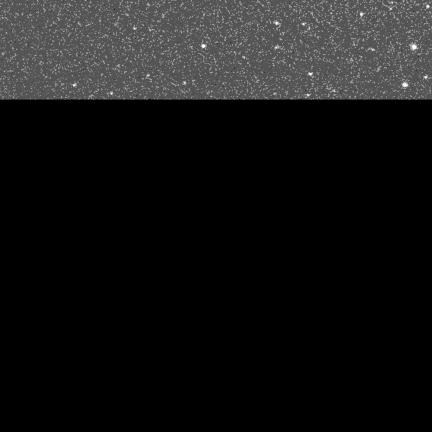blob: (410, 44, 417, 50), (403, 82, 408, 87), (413, 45, 418, 50), (274, 21, 280, 25), (201, 44, 206, 48), (302, 23, 307, 27), (424, 75, 428, 79), (360, 13, 364, 16), (308, 73, 313, 75), (426, 5, 429, 8), (73, 84, 76, 87), (110, 92, 113, 95)
